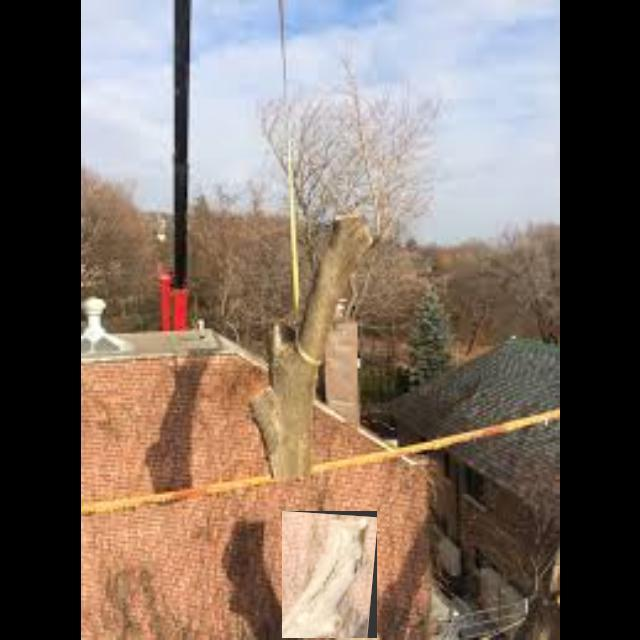fallen_tree: (282, 511, 378, 639)
